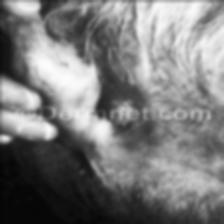Potentially Malignant Skin Tumors: (91, 90, 136, 128)
